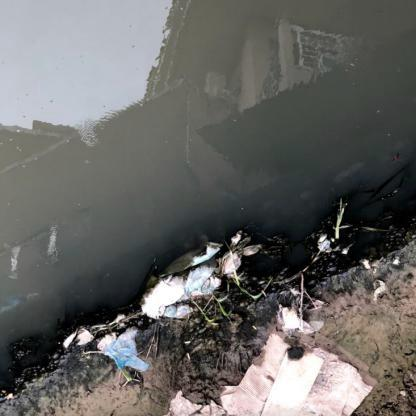Trash: (205, 327, 376, 416), (263, 347, 324, 416), (100, 326, 150, 376)
